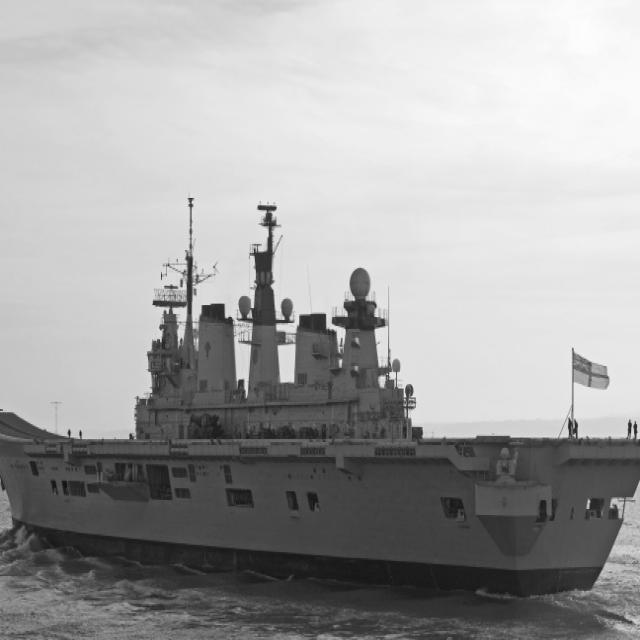Portanaves: (1, 184, 640, 601)
